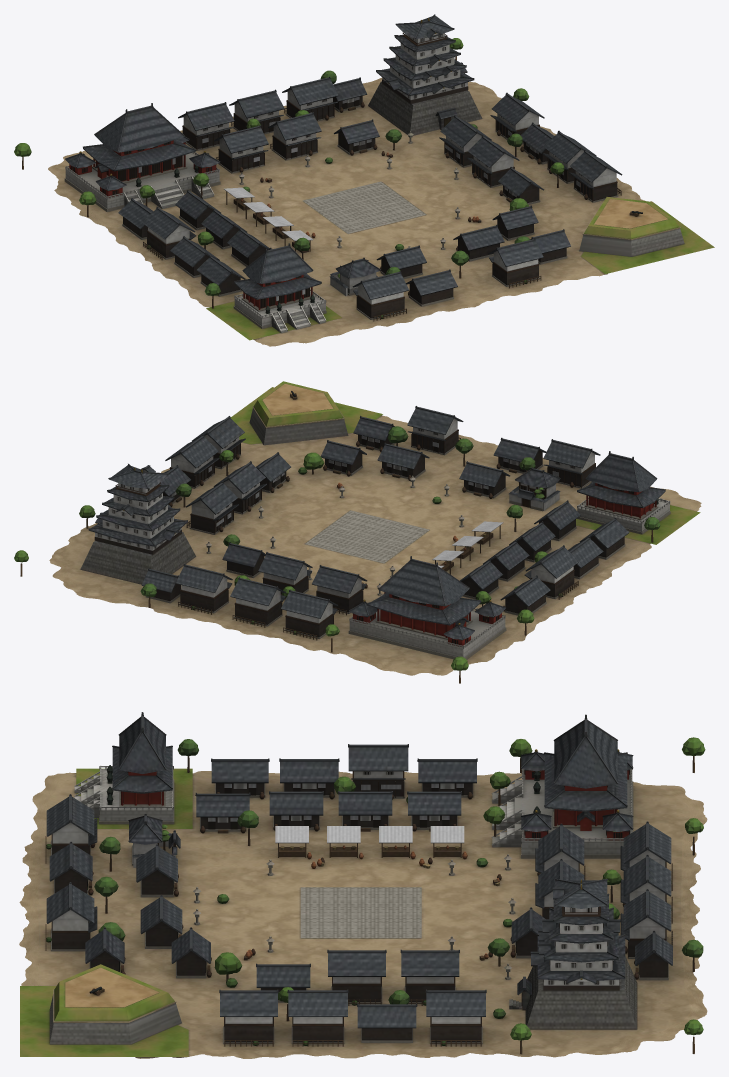
The model's file is gunpowder-town-big-b-japan.glb.
The picture shows the model from 3 angles, top to bottom: view 1: azimuth 30°, elevation 25°; view 2: azimuth 150°, elevation 25°; view 3: azimuth 270°, elevation 25°; orthographic projection. The views are drawn at different scales.
Parts seen in each view (by area): view 1: LOD0; view 2: LOD0; view 3: LOD0.
Boxes of the visible parts, bbox=[...] form: LOD0: bbox=[14, 14, 714, 346]; LOD0: bbox=[14, 381, 701, 683]; LOD0: bbox=[19, 712, 707, 1058].
Size of what is drawn, in the model's own units: 8.05 by 1.61 by 8.12.
3 materials, 3 textured.
